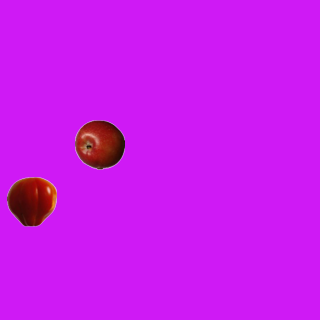Apple Braeburn: (74, 119, 124, 169)
Tomato 1: (6, 176, 56, 226)
